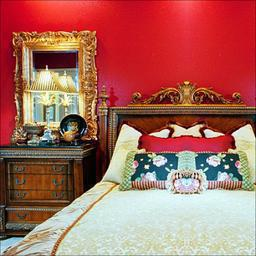Cama: (4, 109, 252, 252)
